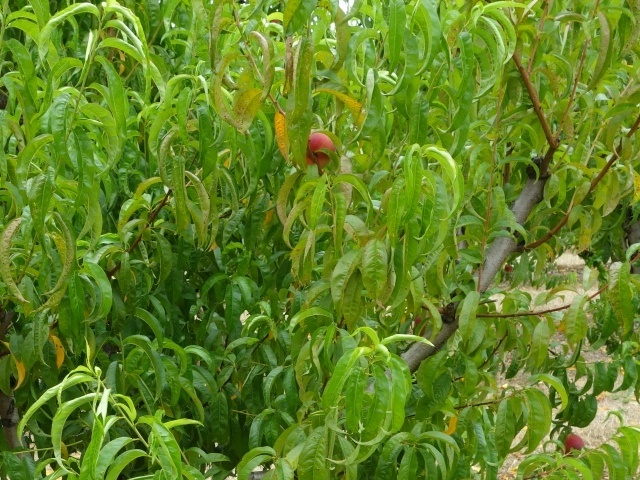peach: (299, 132, 341, 169), (559, 431, 585, 454)
